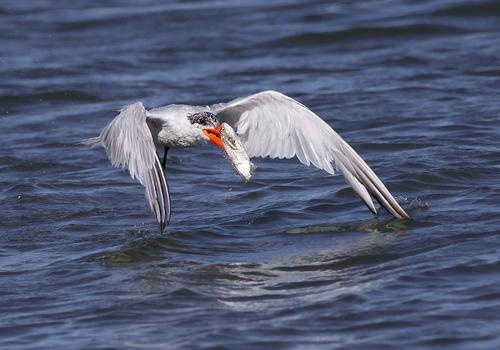bird: (74, 89, 413, 231)
